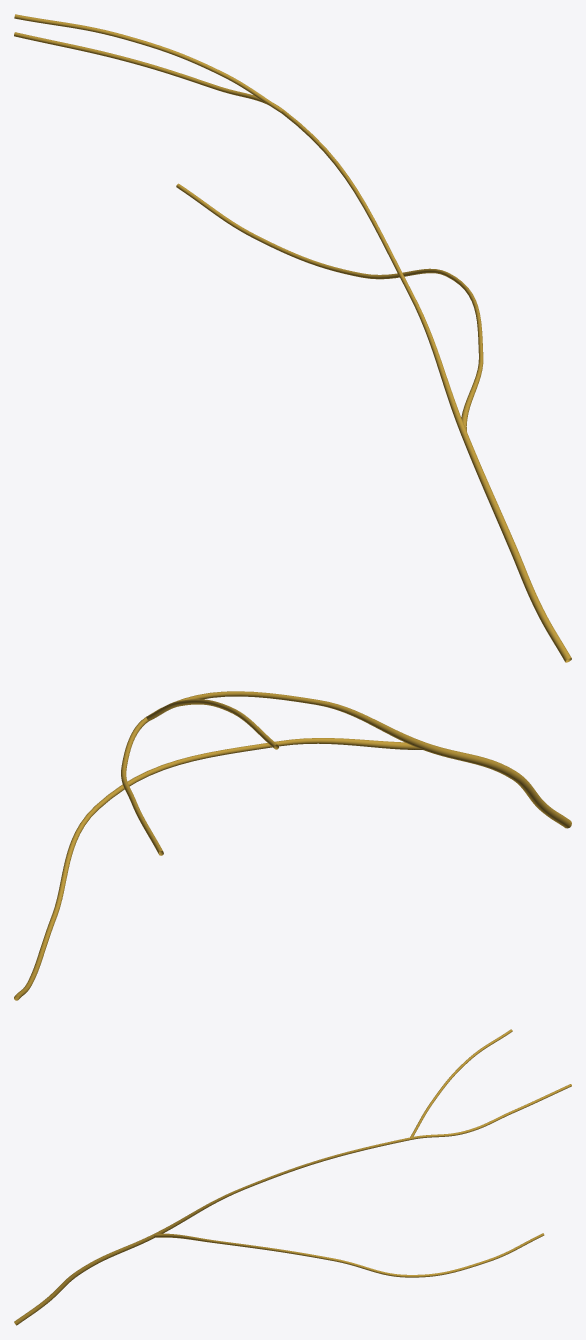
The picture shows the model from 3 angles, top to bottom: view 1: azimuth 30°, elevation 25°; view 2: azimuth 150°, elevation 25°; view 3: azimuth 270°, elevation 25°; orthographic projection. The views are drawn at different scales.
Parts seen in each view (by area): view 1: 左侧胸背神经; view 2: 左侧胸背神经; view 3: 左侧胸背神经.
Part boxes in pixels (bbox=[...]): 左侧胸背神经: bbox=[14, 14, 571, 662]; 左侧胸背神经: bbox=[14, 691, 571, 1000]; 左侧胸背神经: bbox=[14, 1029, 571, 1325].
Size of the model in its own units: 0.0902 by 0.1164 by 0.2372.
